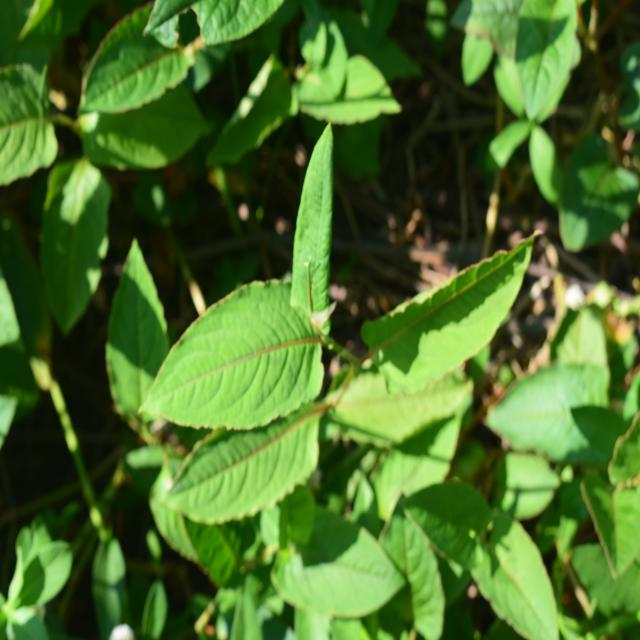Chinese_knotweed: (167, 146, 485, 502)
